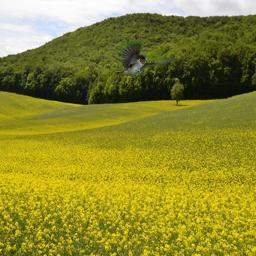Swallow: (115, 42, 178, 75)
